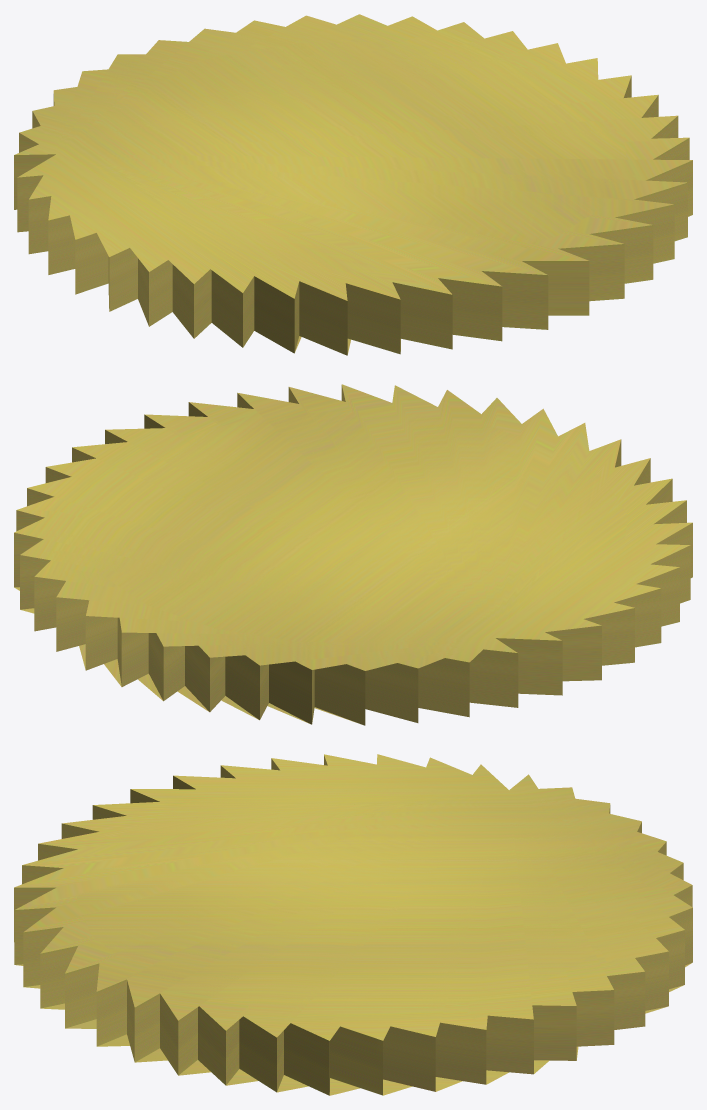
The model's file is ClockAngleFacet6Spoke040.fbx.
3 renders of one model, top to bottom at view 1: azimuth 30°, elevation 25°; view 2: azimuth 150°, elevation 25°; view 3: azimuth 270°, elevation 25°, orthographic.
Parts seen in each view (by area): view 1: ClockAngleFacet6Spoke040; view 2: ClockAngleFacet6Spoke040; view 3: ClockAngleFacet6Spoke040.
Part boxes in pixels (x1,y1,x2,y2): ClockAngleFacet6Spoke040: (14,14,692,355); ClockAngleFacet6Spoke040: (14,384,692,725); ClockAngleFacet6Spoke040: (14,754,692,1095).
Bounding box in the file's own units: 221 × 19.69 × 221.
